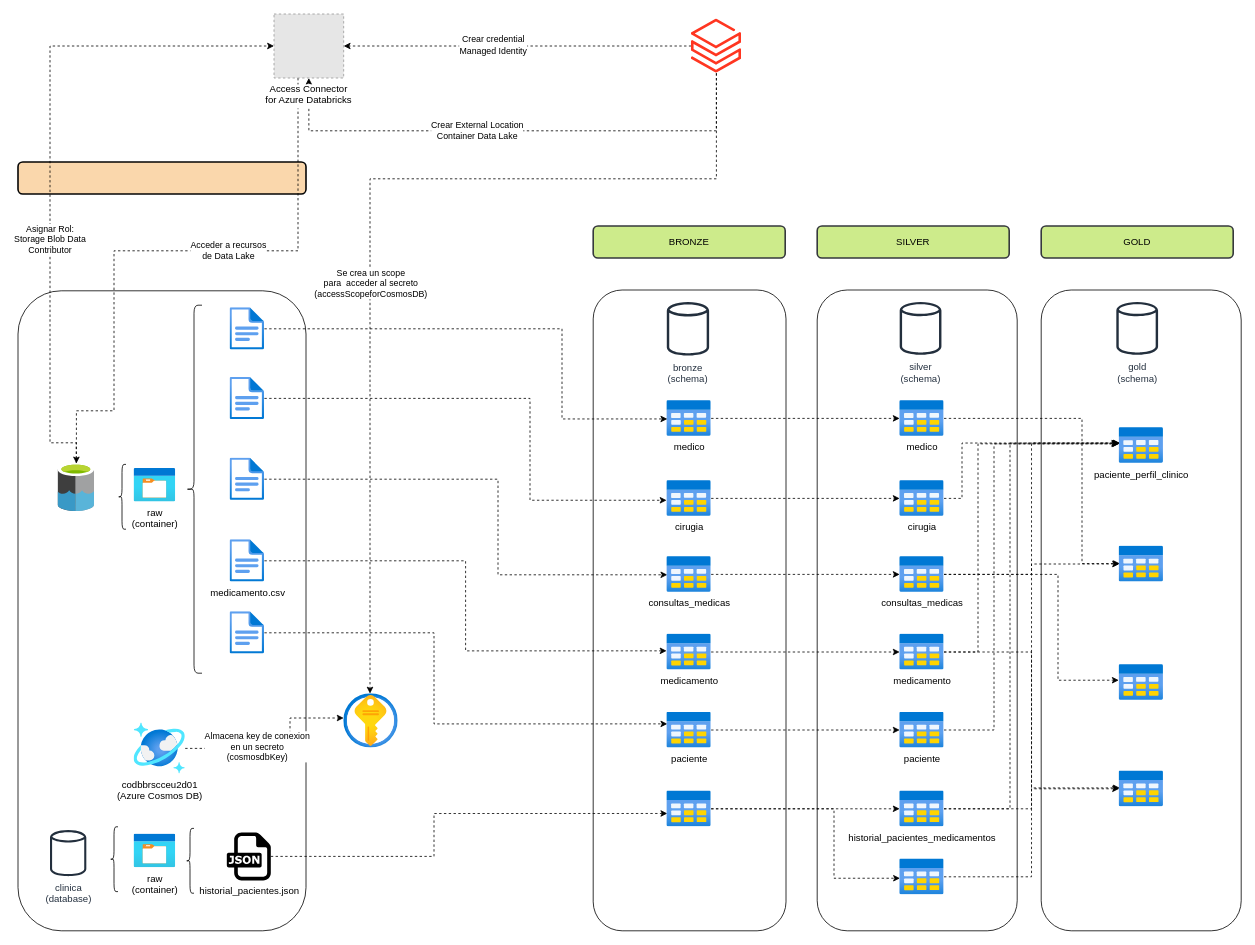
The diagram is 1255 pixels wide and 945 high, and some of its shapes have lost their labels. Grey dashed boxes stand in for pictures. Here are the shapes that lost their labels. From the top down, the centre of each, then its label:
At (716,45): "databricks".
At (161,177): "RAW (Capa Externa)".
At (247,328): "medico.csv".
At (247,398): "cirugia.csv".
At (76,487): "dtlkbrscceu2d01 (Data Lake)".
At (247,479): "consultas_medicas.csv".
At (1141,564): "consulta_por_medico".
At (247,632): "paciente.csv".
At (1141,682): "ingresos_por_especialidad".
At (370,720): "akvbrscceu2d01 (Key vault)".
At (688,808): "historial_pacientes".
At (1141,788): "medicamentos_consumo".
At (921,876): "historial_pacientes_cirugias".
